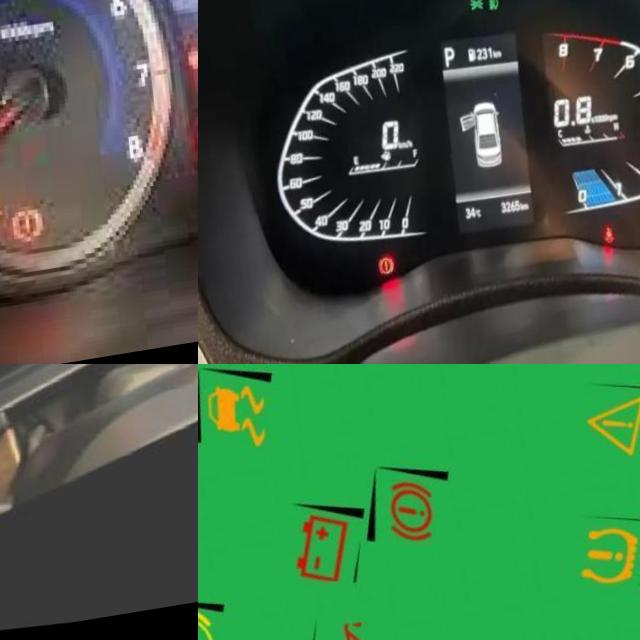Seat Belt: (593, 240, 606, 261)
